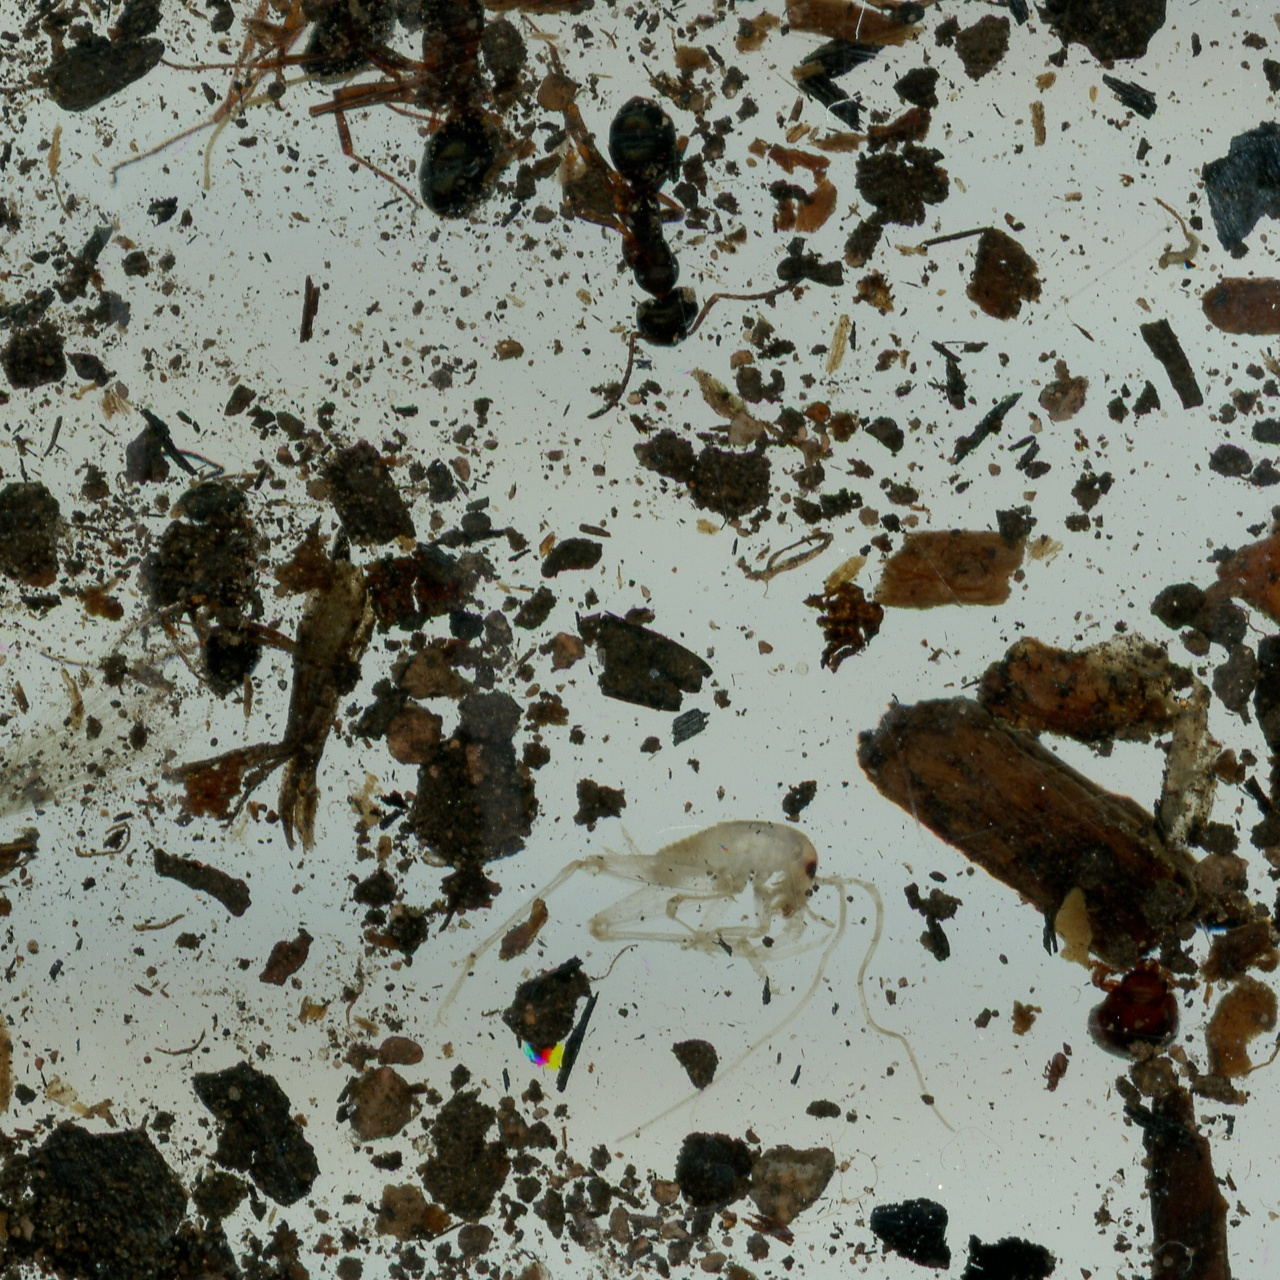arthropod: (432, 804, 972, 1153), (134, 447, 309, 701), (556, 1181, 623, 1280), (318, 774, 393, 848), (1267, 1035, 1280, 1058)
